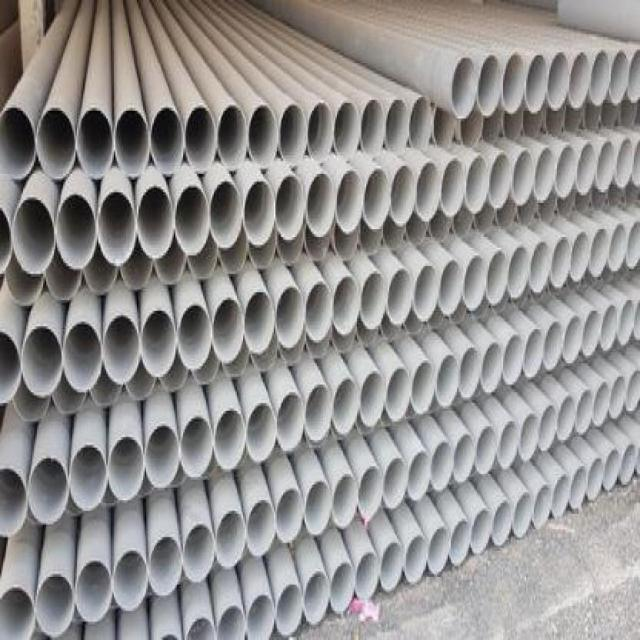pipe: (12, 196, 55, 273), (55, 194, 97, 270), (21, 324, 63, 397), (36, 107, 76, 180), (136, 185, 175, 259), (97, 191, 136, 265), (28, 457, 70, 525), (62, 321, 102, 392), (0, 103, 37, 179), (102, 315, 141, 386), (77, 107, 114, 180), (69, 444, 108, 511), (114, 108, 151, 178), (175, 184, 210, 257), (35, 573, 74, 638), (140, 309, 177, 377), (108, 435, 145, 502), (75, 560, 114, 622), (113, 549, 150, 612), (152, 106, 186, 174), (209, 181, 243, 249), (179, 303, 213, 370), (145, 424, 179, 491), (185, 105, 218, 173), (243, 180, 276, 246), (212, 298, 245, 363), (149, 535, 183, 597), (218, 104, 249, 172), (275, 173, 306, 241), (180, 416, 213, 479), (182, 523, 216, 584), (245, 401, 278, 463), (244, 290, 275, 355), (4, 256, 44, 306), (0, 466, 28, 537), (248, 104, 279, 167), (0, 586, 36, 640), (214, 408, 245, 470), (278, 102, 308, 165), (307, 172, 336, 237), (44, 253, 83, 301), (275, 286, 305, 348), (363, 166, 391, 231), (335, 169, 363, 234), (216, 510, 247, 568), (84, 248, 120, 296), (247, 500, 277, 557), (305, 282, 333, 343), (277, 392, 305, 452), (0, 330, 22, 405), (333, 276, 360, 337), (151, 243, 190, 285), (305, 384, 333, 442), (275, 489, 305, 543), (415, 161, 442, 221), (390, 165, 417, 225), (359, 272, 387, 329), (332, 378, 360, 435), (306, 102, 334, 159), (440, 158, 467, 217), (477, 55, 502, 116), (452, 58, 477, 119), (185, 237, 220, 280), (120, 251, 156, 292), (388, 268, 413, 327), (385, 366, 412, 420), (331, 473, 358, 527), (305, 481, 332, 535), (303, 571, 330, 625), (414, 264, 439, 321), (462, 254, 487, 310), (360, 372, 385, 428), (335, 101, 360, 157), (216, 233, 249, 275), (411, 360, 436, 415), (276, 584, 304, 633), (512, 148, 535, 207), (466, 155, 489, 214), (436, 354, 461, 408), (247, 594, 277, 639), (360, 99, 385, 153), (502, 53, 524, 114), (526, 54, 548, 115), (547, 53, 570, 111), (358, 465, 383, 518), (379, 541, 404, 594), (385, 98, 410, 151), (440, 259, 463, 316), (488, 152, 511, 209), (568, 51, 590, 110), (529, 239, 552, 295), (273, 227, 306, 266), (383, 456, 408, 507), (331, 562, 356, 613), (410, 95, 433, 149), (330, 219, 361, 259), (487, 250, 509, 306), (245, 229, 275, 270), (407, 451, 432, 500), (356, 552, 381, 600), (555, 145, 577, 199), (453, 433, 476, 484), (522, 327, 544, 380), (458, 346, 480, 399), (431, 440, 453, 493), (405, 534, 427, 587), (302, 222, 330, 263), (591, 50, 611, 107), (427, 526, 450, 575), (502, 334, 524, 385), (550, 236, 572, 287), (509, 244, 529, 300), (356, 213, 384, 253), (474, 427, 497, 475), (449, 519, 472, 567), (481, 343, 503, 393), (433, 104, 456, 151), (216, 604, 246, 640), (534, 148, 554, 202), (610, 49, 629, 105), (576, 142, 596, 195), (471, 507, 493, 555), (380, 211, 407, 250), (571, 230, 590, 284), (519, 412, 539, 463), (596, 141, 616, 192), (589, 227, 609, 278), (491, 500, 513, 545), (427, 208, 454, 244), (615, 137, 634, 188), (562, 315, 582, 363), (498, 420, 518, 468), (512, 492, 532, 539), (544, 321, 563, 369), (575, 388, 594, 436), (557, 396, 576, 444), (609, 223, 628, 271), (532, 484, 552, 529), (582, 310, 601, 356), (592, 382, 611, 427), (539, 405, 558, 450), (619, 441, 638, 486), (586, 457, 605, 502), (569, 465, 588, 510), (460, 111, 483, 148), (600, 303, 617, 352), (618, 299, 635, 347), (552, 474, 571, 516), (406, 210, 428, 246), (451, 206, 474, 240), (472, 203, 497, 234), (494, 200, 519, 231), (609, 375, 626, 420), (627, 47, 640, 105), (546, 102, 566, 139), (603, 447, 620, 490), (515, 194, 537, 227), (535, 192, 557, 225), (625, 219, 639, 270), (582, 102, 605, 133), (502, 109, 524, 140), (525, 106, 545, 138), (625, 368, 639, 413), (563, 102, 583, 133), (619, 98, 639, 129), (481, 112, 503, 140), (600, 101, 620, 129)
